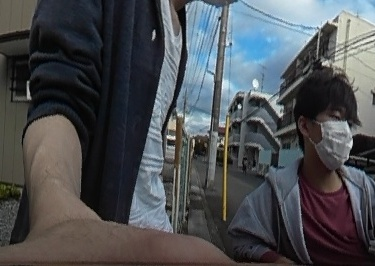person: (224, 72, 375, 266)
